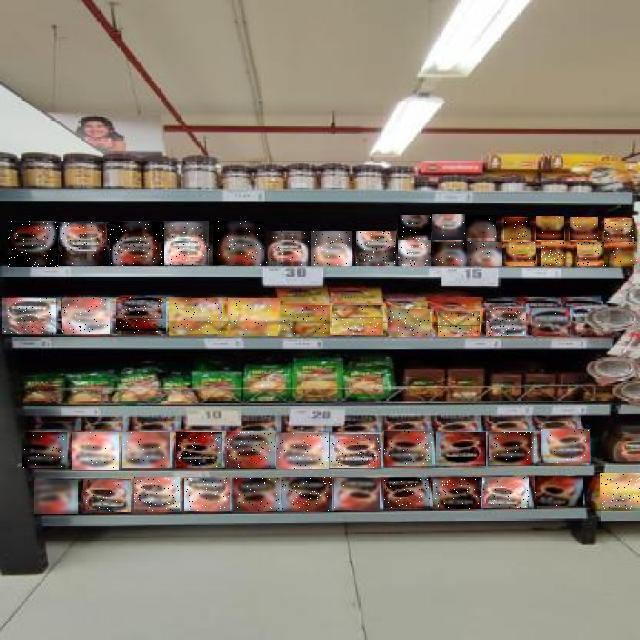Coffee: (110, 222, 164, 266), (8, 221, 58, 267), (213, 221, 264, 265), (59, 222, 109, 266), (164, 221, 212, 265), (228, 298, 280, 336), (2, 298, 56, 334), (169, 298, 222, 334), (276, 433, 329, 469), (116, 298, 166, 334), (72, 433, 119, 471), (330, 434, 381, 468), (62, 298, 110, 334), (227, 432, 275, 468), (122, 432, 170, 468), (436, 432, 486, 466), (282, 477, 332, 511), (385, 431, 433, 466), (541, 429, 590, 463), (278, 305, 330, 337), (176, 432, 222, 468), (22, 432, 67, 468), (83, 479, 131, 512), (134, 478, 180, 512), (433, 477, 481, 509), (266, 232, 311, 266), (332, 305, 383, 335), (490, 432, 536, 465), (234, 478, 280, 511), (184, 478, 230, 511), (34, 480, 78, 514), (334, 478, 380, 510), (482, 477, 529, 508), (535, 477, 583, 507), (600, 474, 640, 510), (311, 231, 352, 266), (384, 478, 430, 508), (356, 232, 396, 266), (486, 309, 526, 337), (388, 310, 430, 336), (438, 311, 480, 337), (532, 309, 570, 337), (432, 215, 465, 241), (398, 240, 431, 266), (467, 242, 502, 266), (434, 242, 468, 266), (398, 216, 431, 240), (466, 216, 496, 240), (604, 218, 634, 242), (507, 242, 537, 266), (578, 242, 608, 266), (536, 217, 564, 241), (542, 242, 570, 266), (570, 217, 598, 240), (612, 243, 637, 266), (504, 218, 530, 240)
